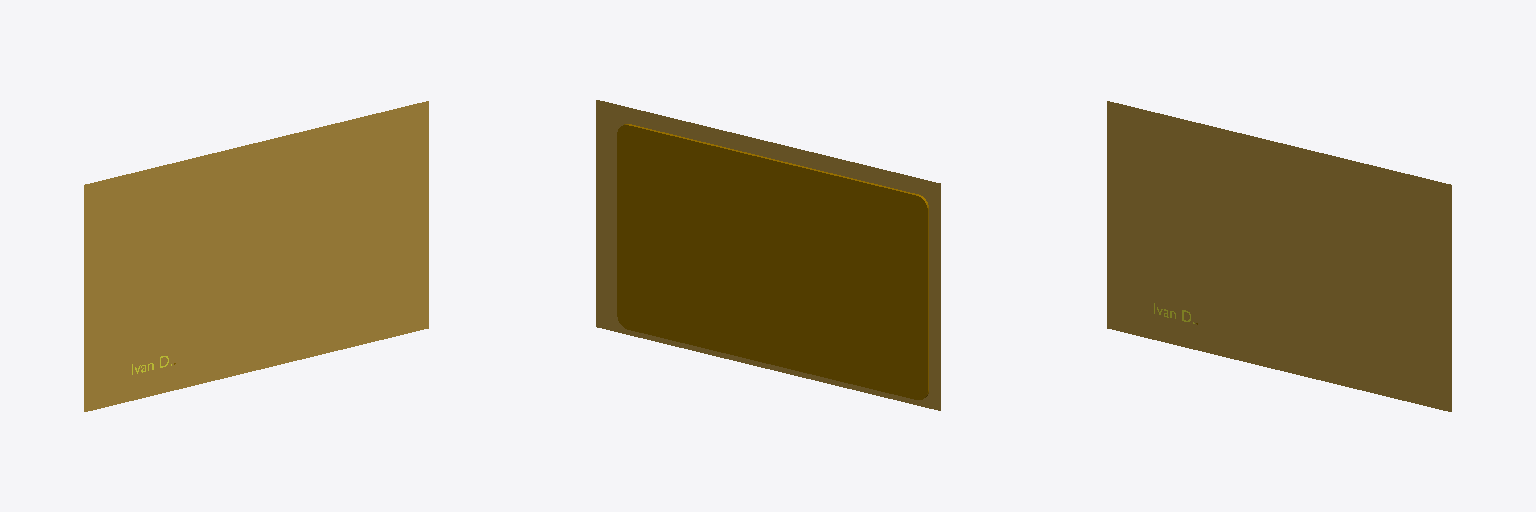
Rendered from gcc.obj.
The picture shows the model from 3 angles: view 1: azimuth 30°, elevation 25°; view 2: azimuth 150°, elevation 25°; view 3: azimuth 330°, elevation 25°; orthographic projection.
Parts seen in each view (by area): view 1: Monopoly.001; view 2: Cube, Monopoly.001; view 3: Monopoly.001.
Boxes of the visible parts, box(x1,y1,x2,y2) form: Monopoly.001: box(84, 101, 428, 411); Cube: box(617, 124, 928, 399); Monopoly.001: box(596, 100, 940, 410); Monopoly.001: box(1107, 101, 1451, 411).
Size of the model in its own units: 0.9514 by 0.6 by 0.0081.